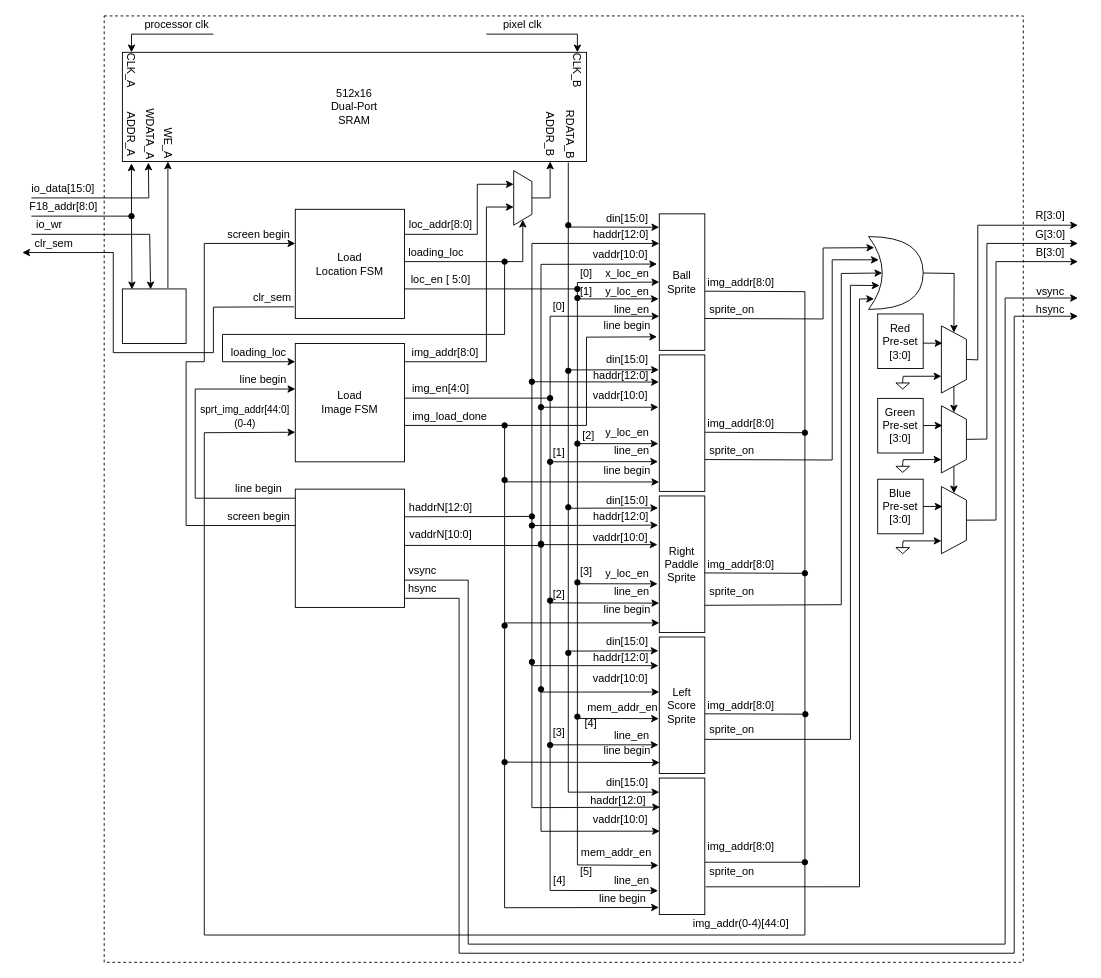
Image size: 1101x978. Some labels were removed from this diagram. Here are the shapes that lost their labels. From the top down, the centre of each, then its label:
[153,316]: I/O Decode
[681,422]: Left Paddle Sprite
[349,547]: Sync Generator
[681,846]: Right Score Sprite
